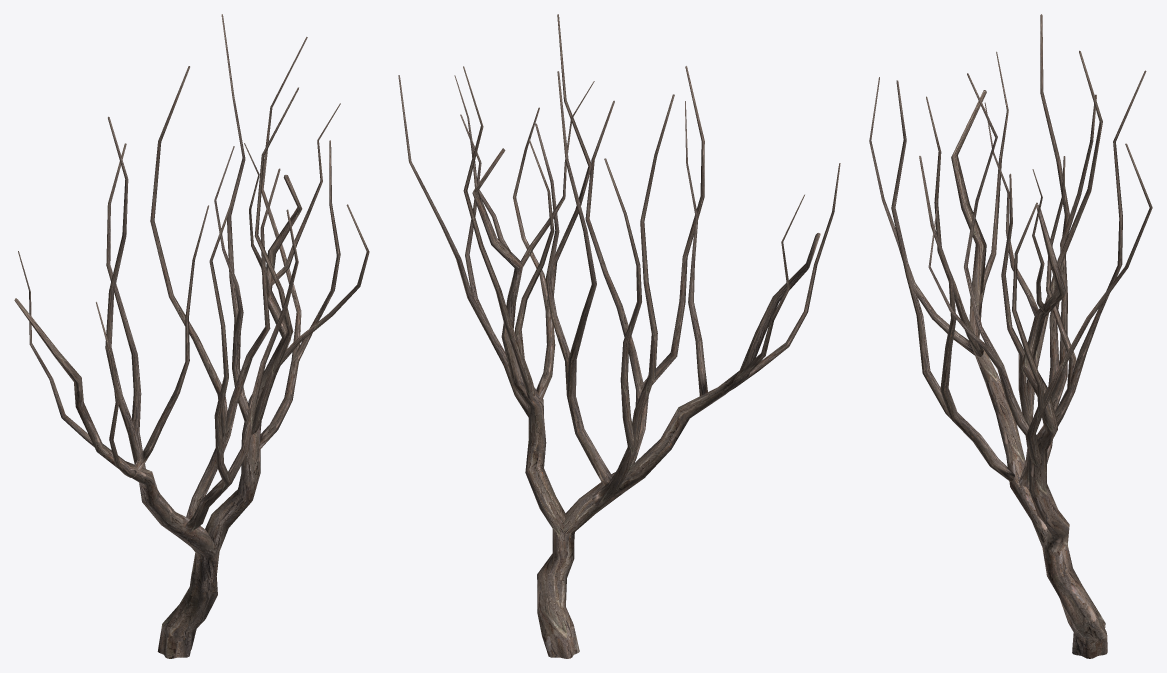
The model's file is tree3.obj.
The picture shows the model from 3 angles, left to right: view 1: azimuth 30°, elevation 25°; view 2: azimuth 150°, elevation 25°; view 3: azimuth 270°, elevation 25°; orthographic projection. The views are drawn at different scales.
Visible parts, largest first — view 1: tree; view 2: tree; view 3: tree.
Boxes of the visible parts, x1,y1,x2,y2 form: tree: (14, 14, 369, 658); tree: (398, 14, 840, 658); tree: (869, 14, 1152, 658).
Size of the model in its own units: 39.89 by 63.13 by 26.25.
1 material, 1 textured.
